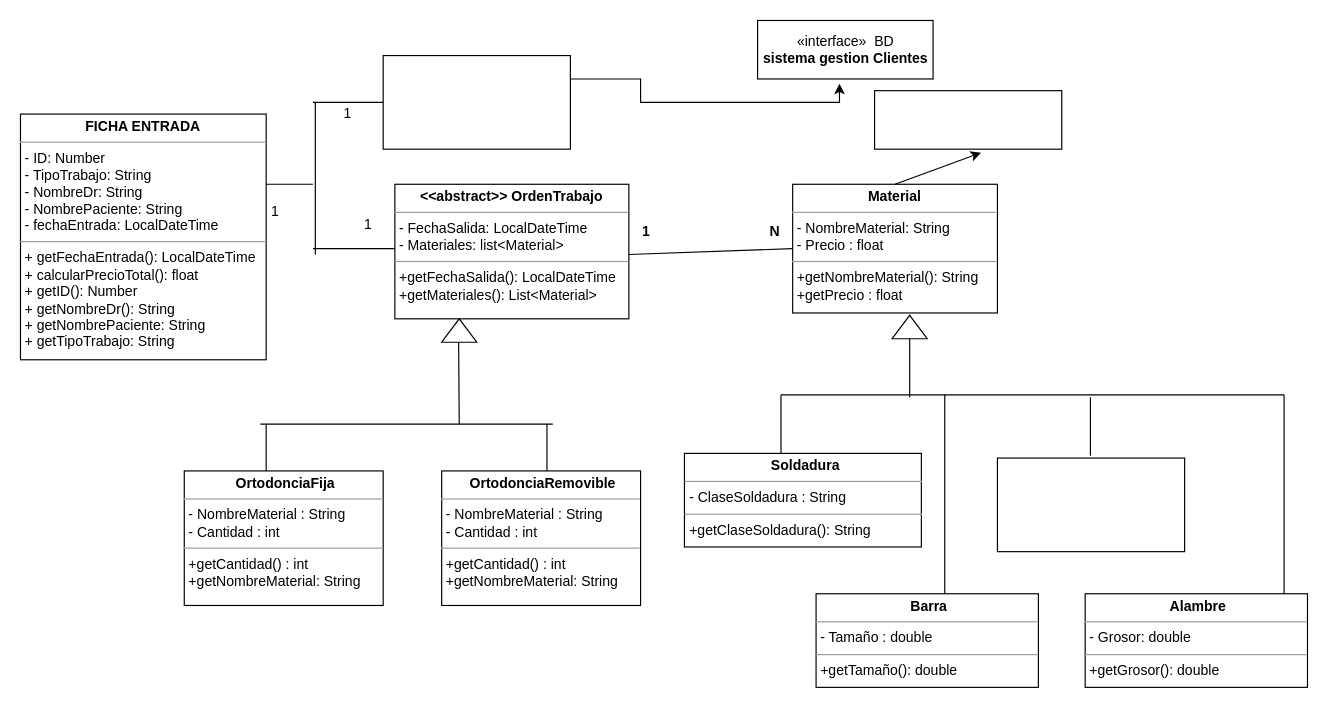
Image size: 1328x708. Some labels were removed from this diagram. Each missing label, with the centre of its shape:
AlbaranEntrega - Datos ficha entrada + facturar trabajo (): float: point 476,101
Tornillo - Expansion: String +getExpansionl(): String: point 1090,504
«interface» BD sistema gestion Materiales: point 967,119
